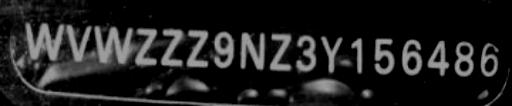letter: (23, 20, 65, 61), (92, 23, 134, 64), (266, 28, 294, 72), (318, 33, 346, 77), (184, 27, 212, 69), (238, 29, 266, 71), (424, 36, 452, 78), (65, 23, 93, 64), (292, 30, 318, 74), (158, 26, 186, 66), (212, 27, 236, 71), (134, 26, 160, 66), (452, 38, 478, 78), (372, 34, 396, 76), (400, 36, 424, 76), (478, 42, 502, 78), (348, 33, 366, 75)
